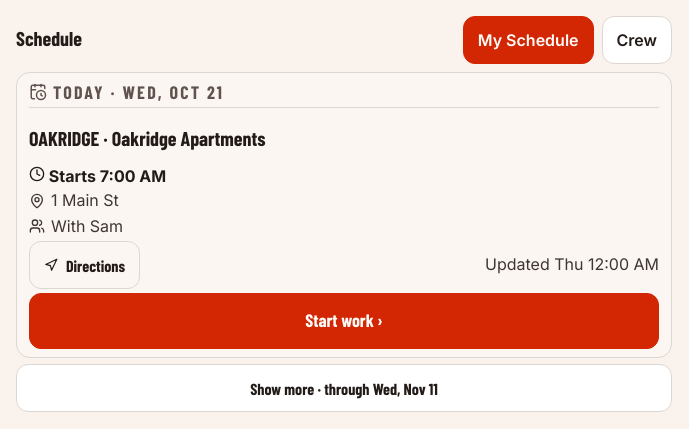
Test: Schedule tab (K1.6) › gives a foreman a view-only Crew switch that reads everyone's published rows
This screenshot has width=689, height=429.
Click the button "Crew": (637, 40) [602,16,672,64]
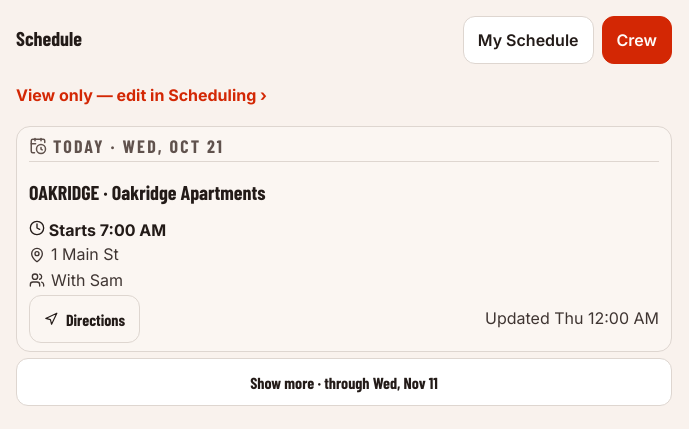
Expected: the text "With Sam" is shown, [29,270,123,291]
Expected: the text "edit in Scheduling" is shown, [16,85,267,105]
